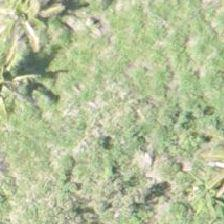Kelapa_Sawit: (0, 46, 61, 136)
